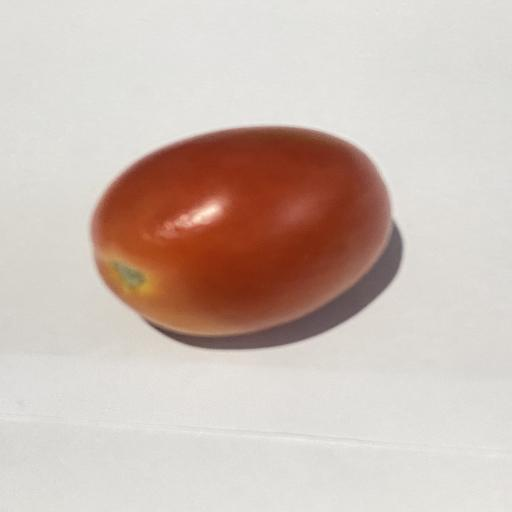ripe: (91, 126, 392, 336)
